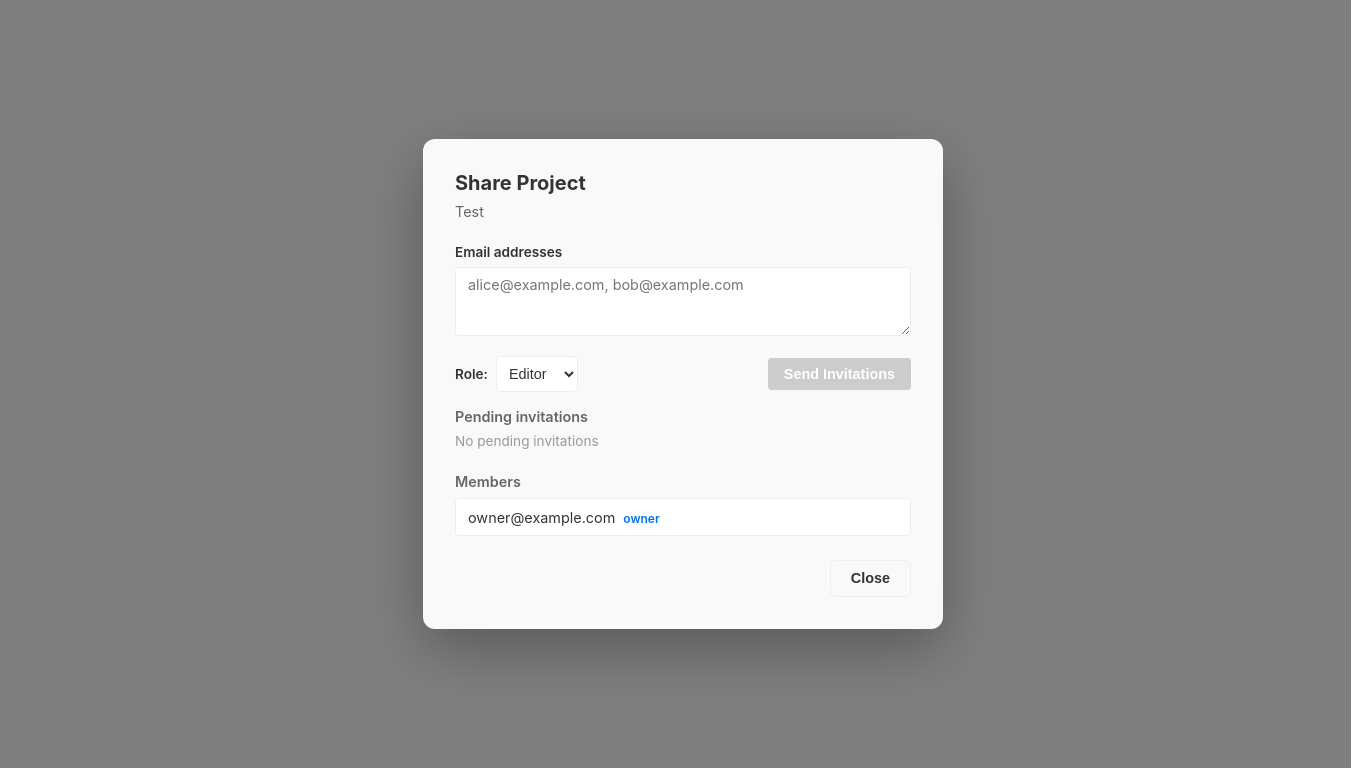
ShareDialog invitations › sending › shows the send failure when invitations are not available
Step 1. Type "new@example.com" into the text box labelled "Email addresses" → [683, 301], box [455,267,911,336]
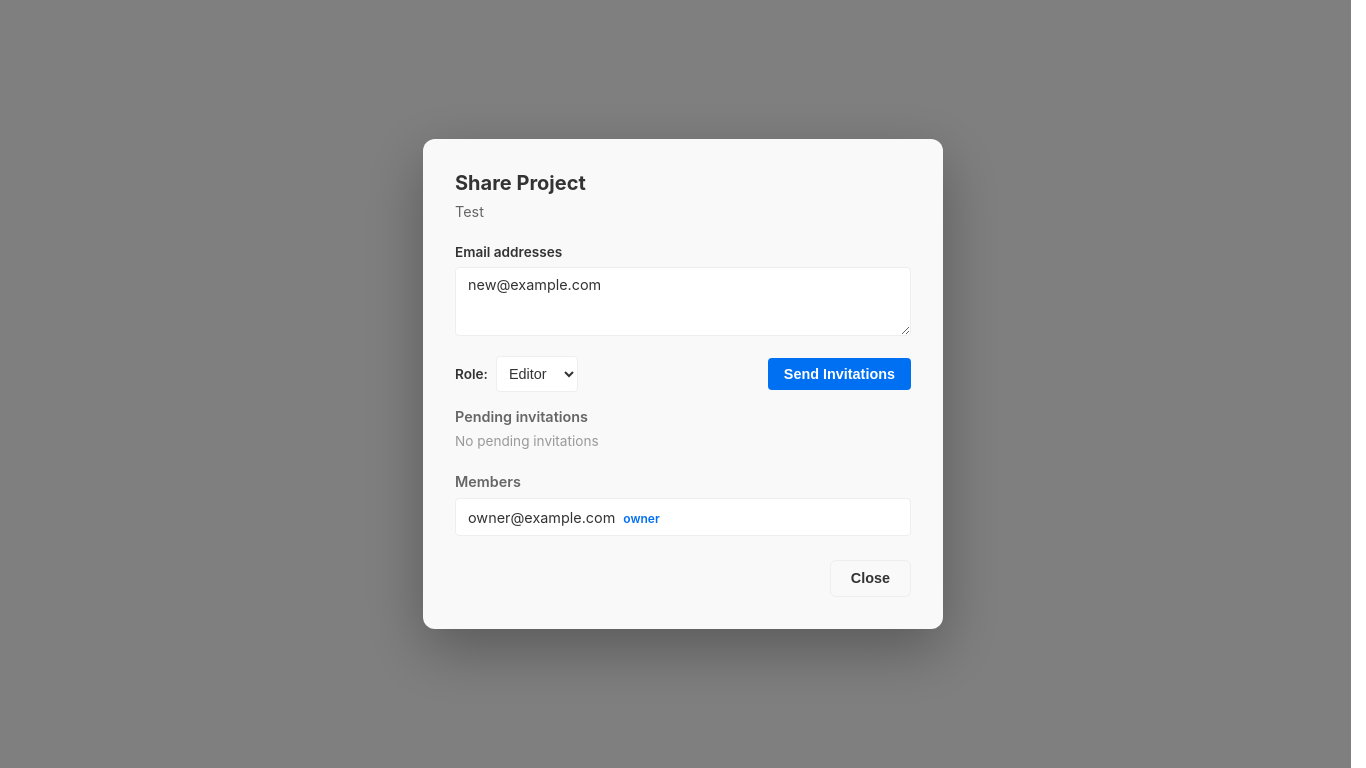
Step 2. Click the button "Send Invitations" → [839, 374], box [768,358,911,390]
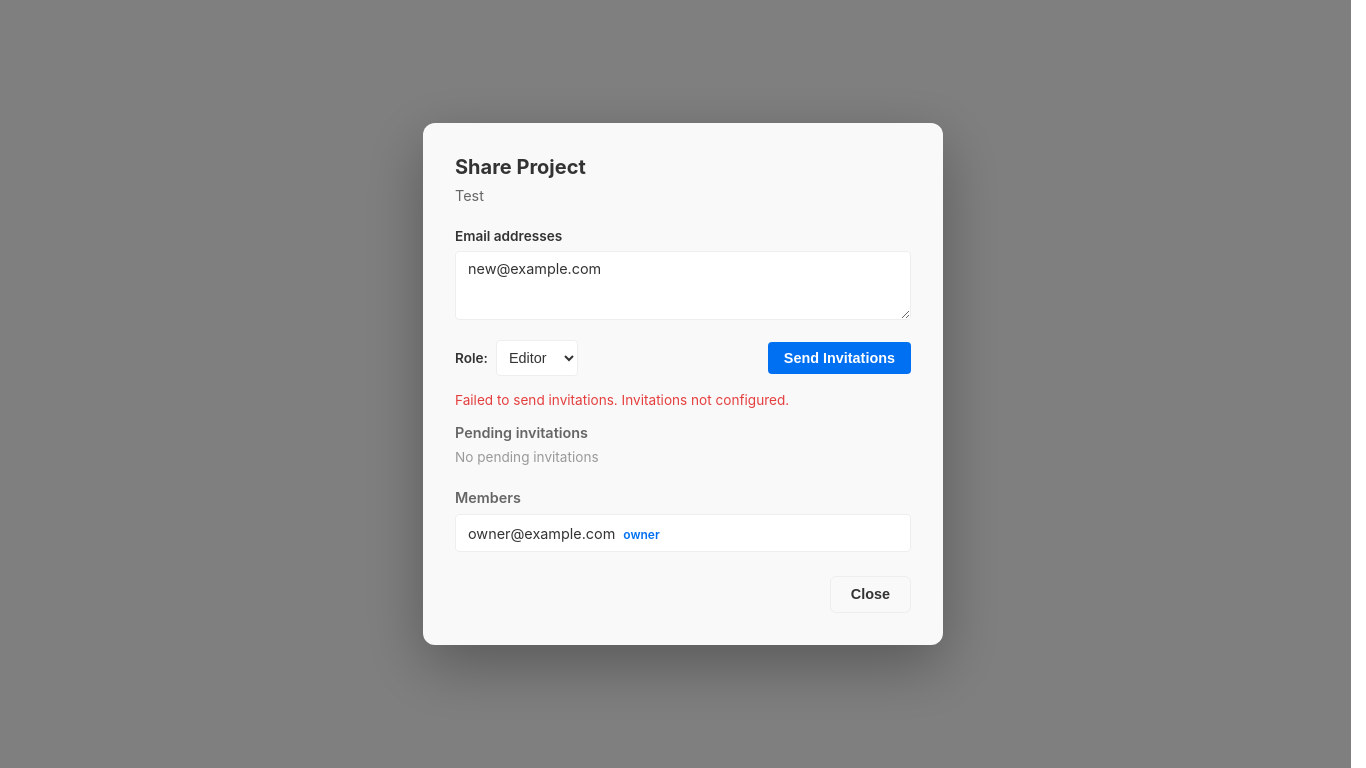
Check: the text "Failed to send invitations. Invitations not configured." is shown, box [455,392,789,408]
